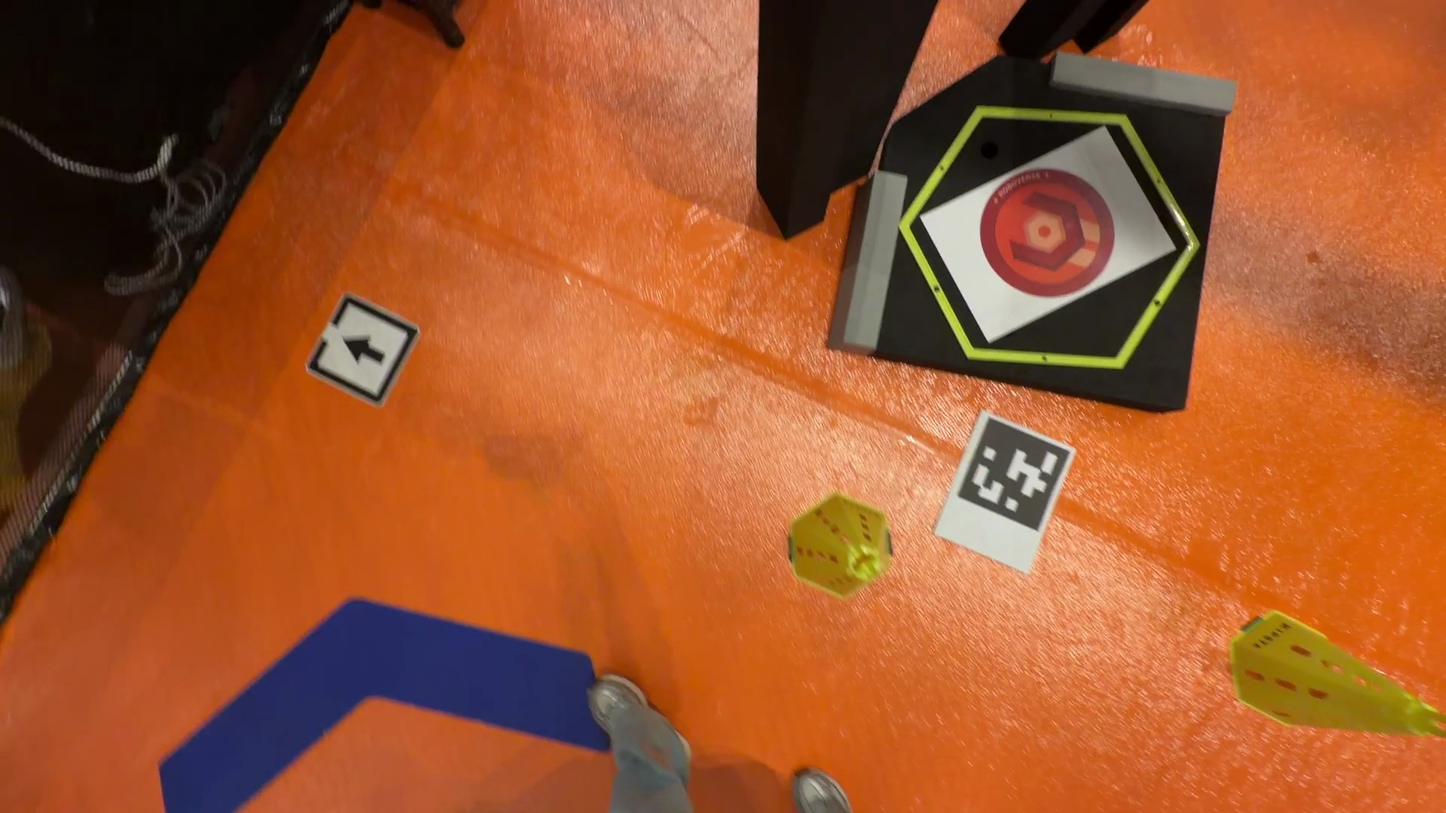landing_pad: (981, 167, 1117, 297)
